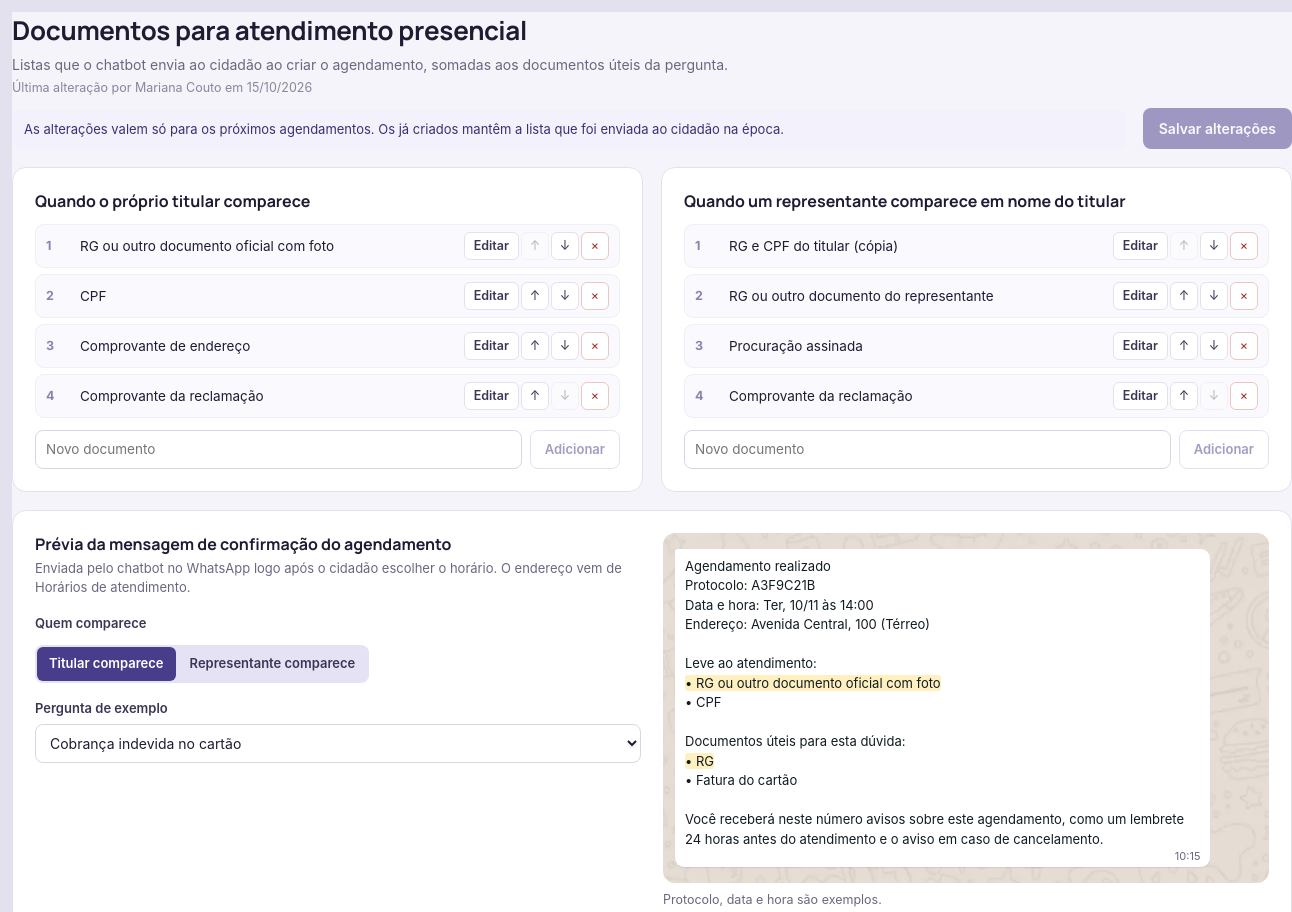
DocumentsPage › descartar desfaz todas as alterações pendentes
Expected: the heading "Quando o próprio titular comparece" is shown, x1=35 y1=190 x2=310 y2=212
In the field named "Novo documento (Quando o próprio titular comparece)": (278, 449) x1=35 y1=430 x2=522 y2=469, type "Documento extra"
Then press Enter
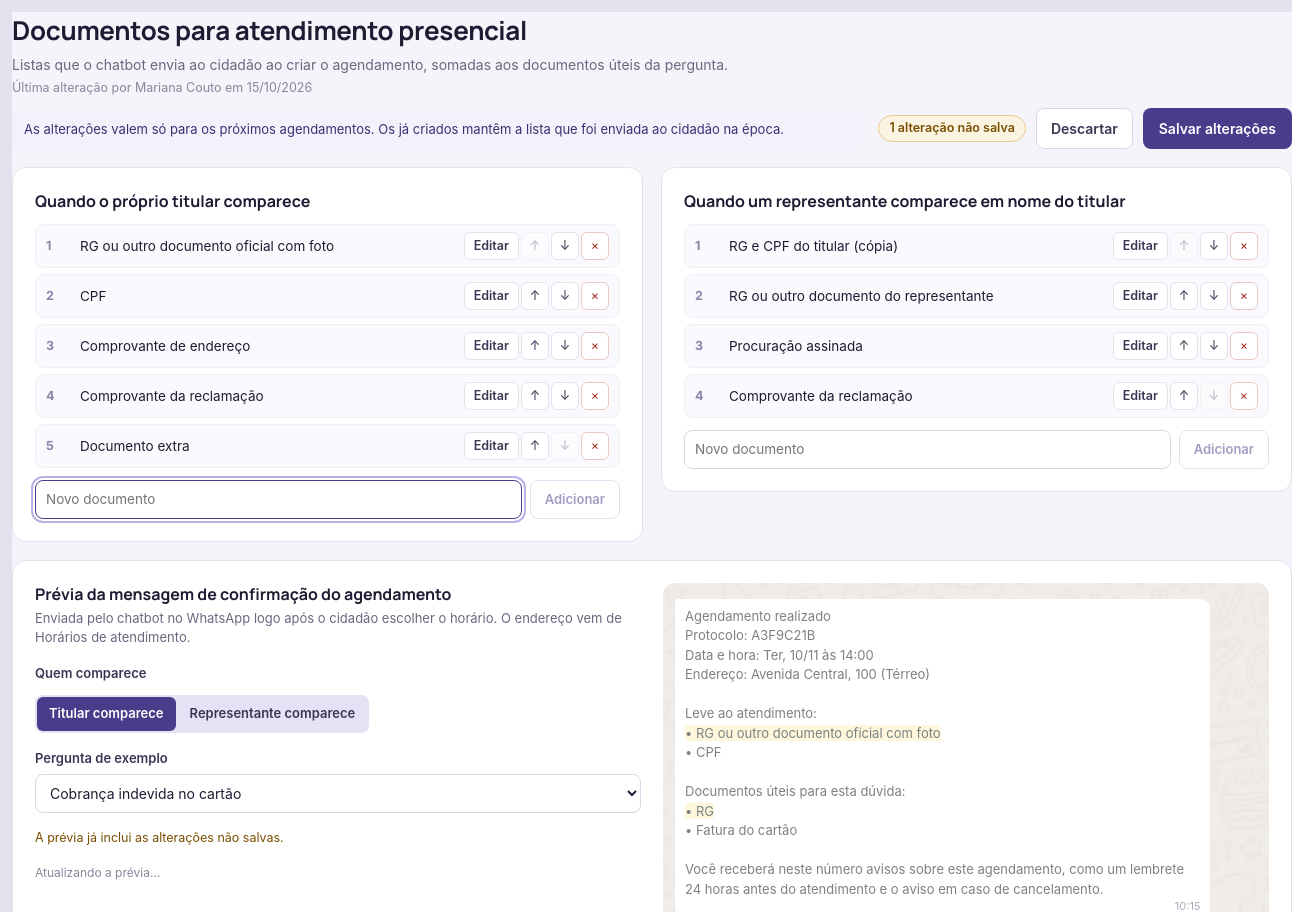
Result: the button "Documento extra" is shown at x1=75 y1=434 x2=459 y2=459
Result: the button "1 alteração não salva" is shown at x1=878 y1=115 x2=1026 y2=142
Click the button "Descartar": click(1084, 129) x1=1036 y1=108 x2=1133 y2=149
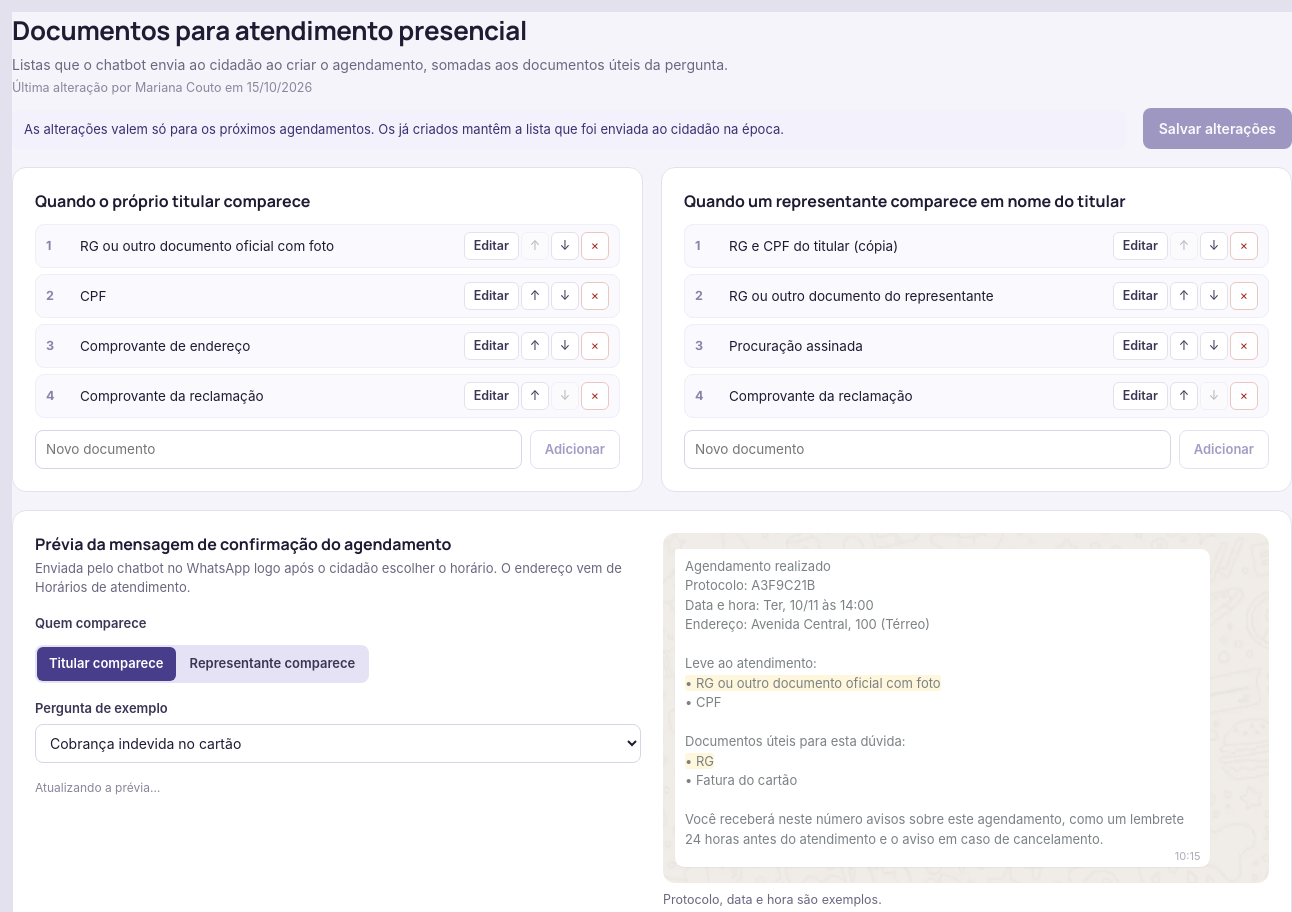
Result: the button "Documento extra" is gone
Result: the button "1 alteração não salva" is gone
